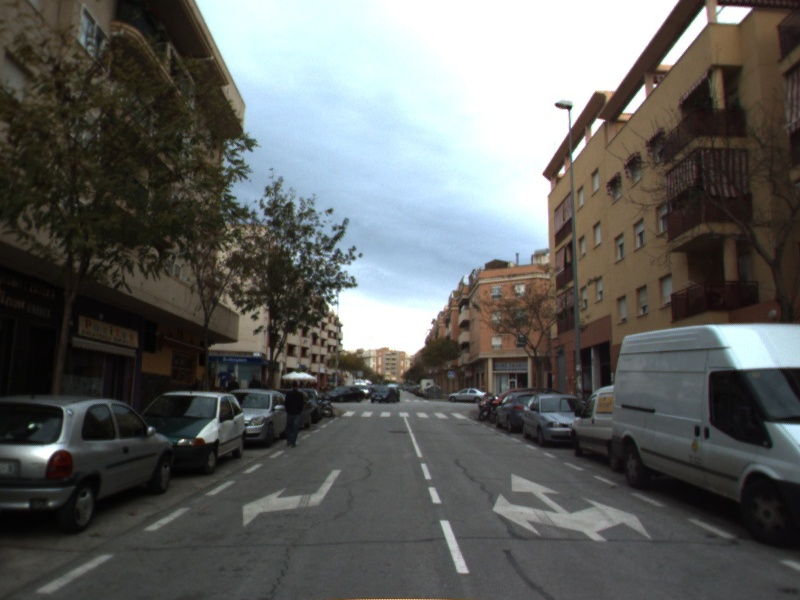STRAIGHT_LEFT_RIGHT: (490, 471, 654, 544)
